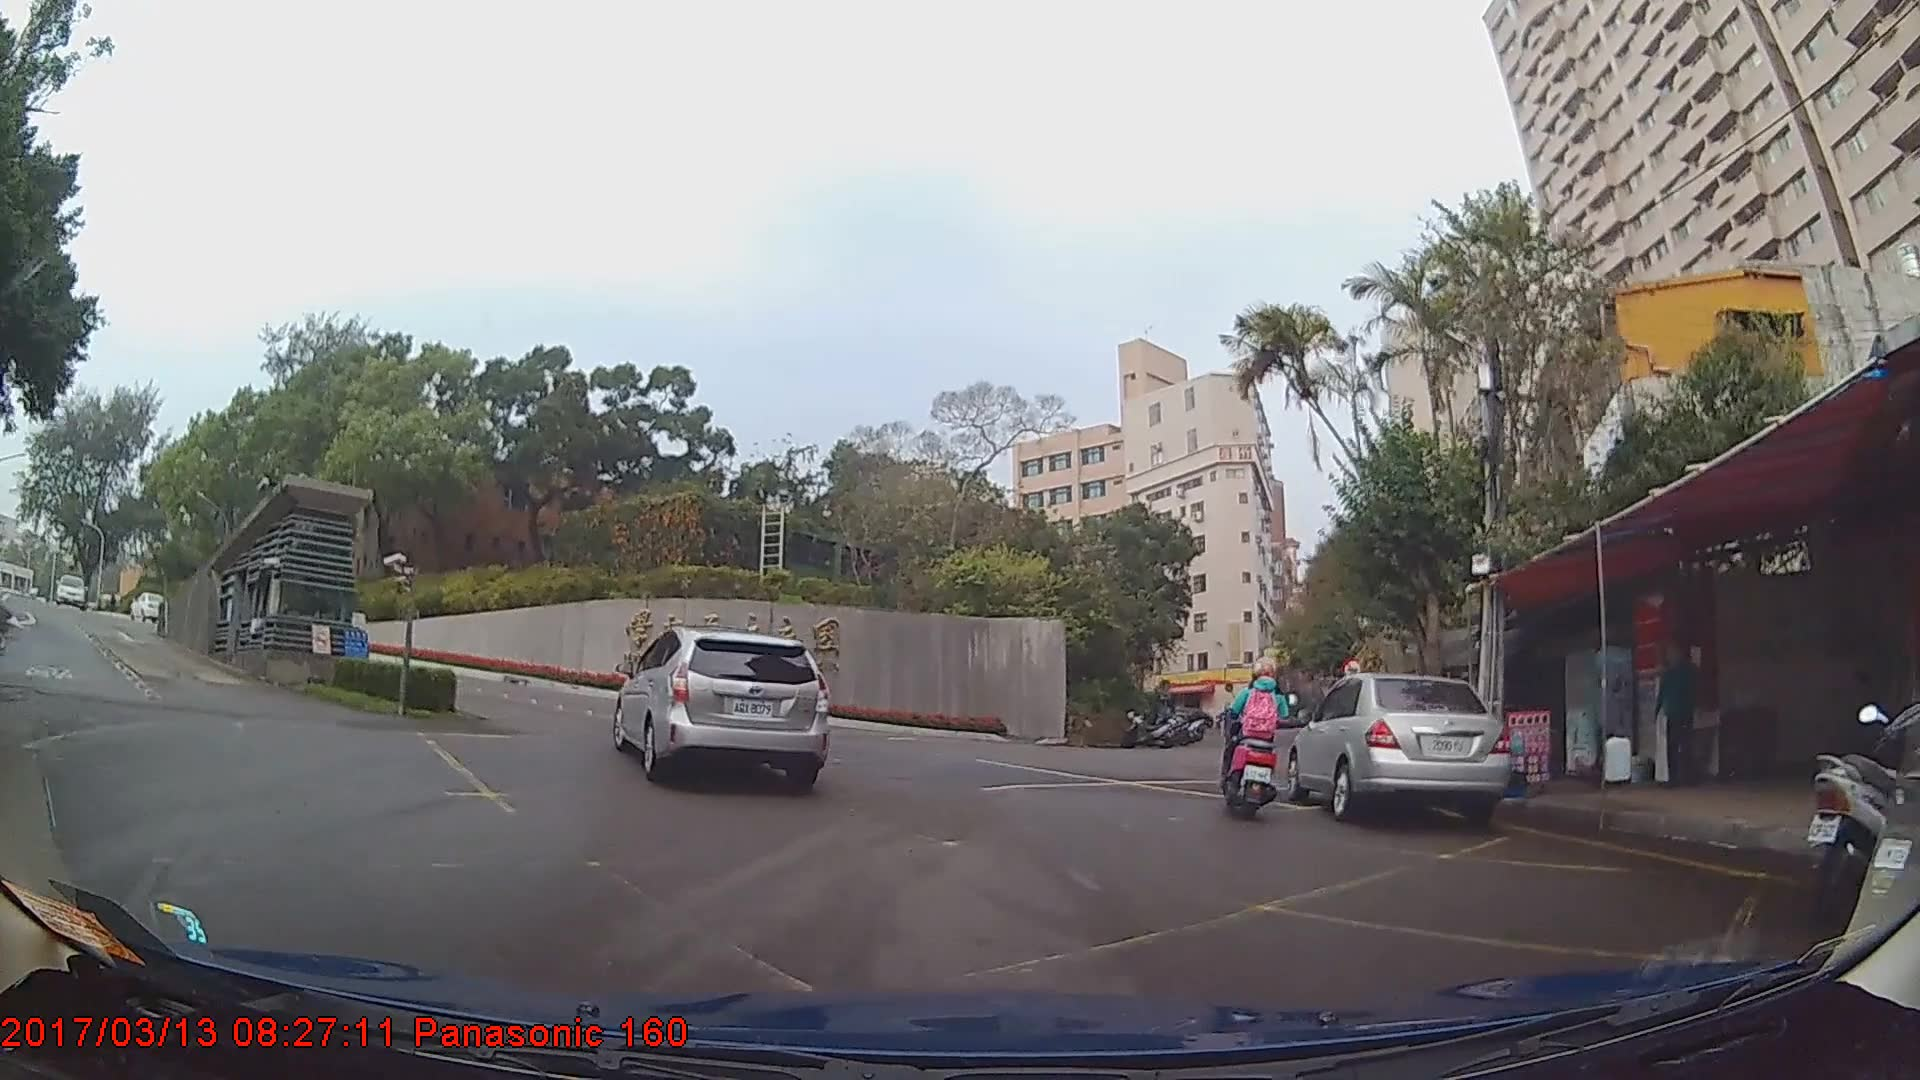pedestrian: (1651, 636, 1706, 784)
rider: (1219, 663, 1294, 833)
vehicle: (611, 629, 826, 792), (1288, 674, 1517, 824), (53, 571, 87, 608), (129, 591, 165, 621)
